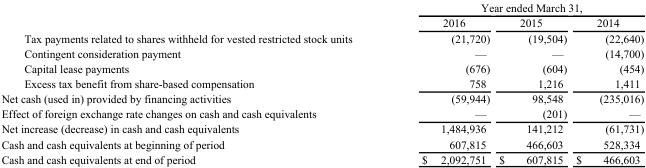table: (0, 1, 643, 165)
table column: (0, 1, 386, 165), (386, 1, 493, 165), (493, 1, 570, 165), (570, 1, 643, 165)
table column header: (0, 1, 643, 30)
table row: (0, 14, 643, 30), (0, 105, 643, 121), (0, 30, 643, 45), (0, 45, 643, 60), (0, 60, 643, 75), (0, 75, 643, 90), (0, 90, 643, 105), (0, 121, 643, 136), (0, 136, 643, 151), (0, 151, 643, 165), (0, 1, 643, 14)
table spanning cell: (386, 1, 643, 14)
